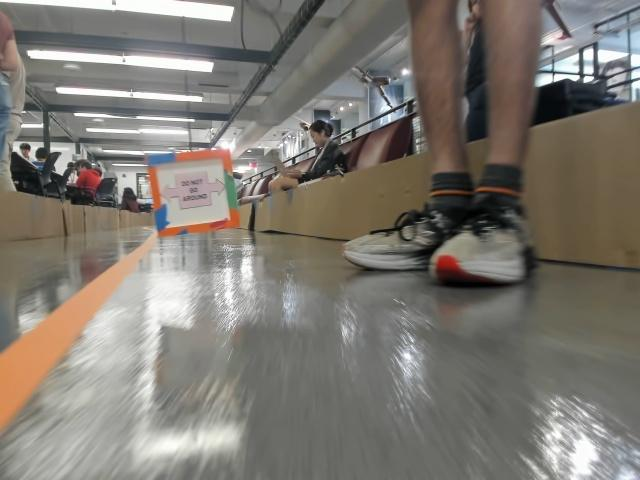Do Not Go Around: (158, 175, 221, 210)
